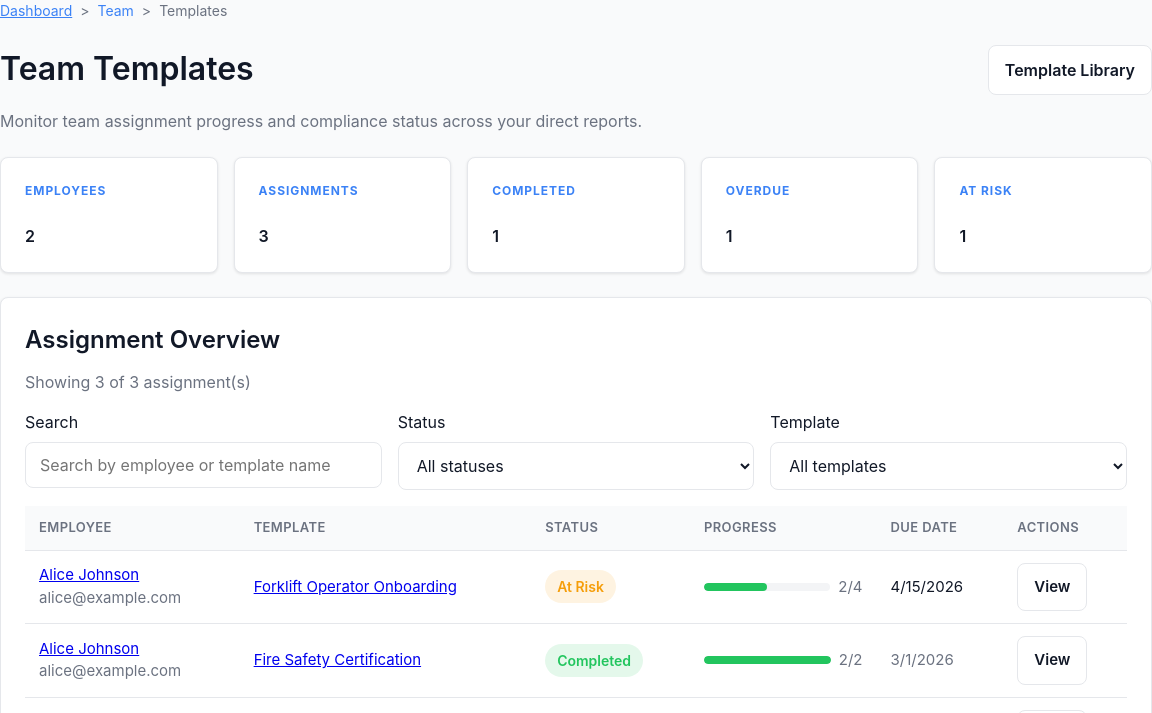
TeamTemplatesPage › allows searching by employee name
Type "bob" into the field with placeholder "Search by employee or template name" at (203, 465), box [25,442,382,488]
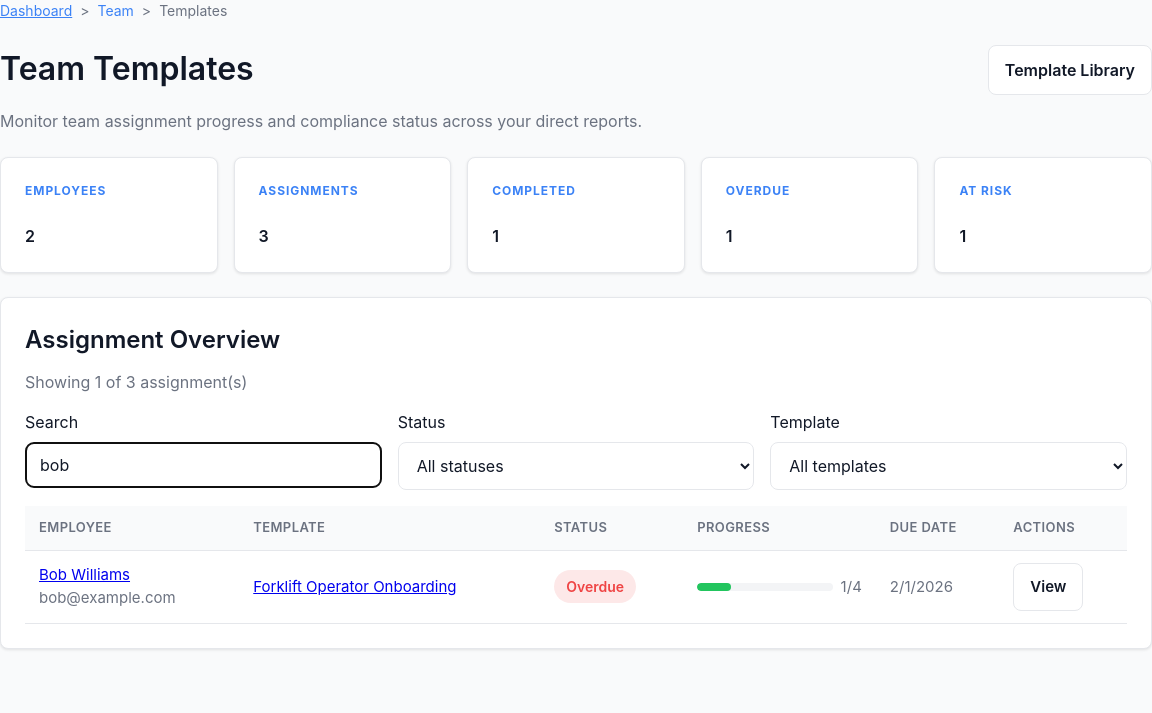
Expected: the link "Bob Williams" is shown, [39,565,130,584]
Expected: the link "Alice Johnson" is gone
